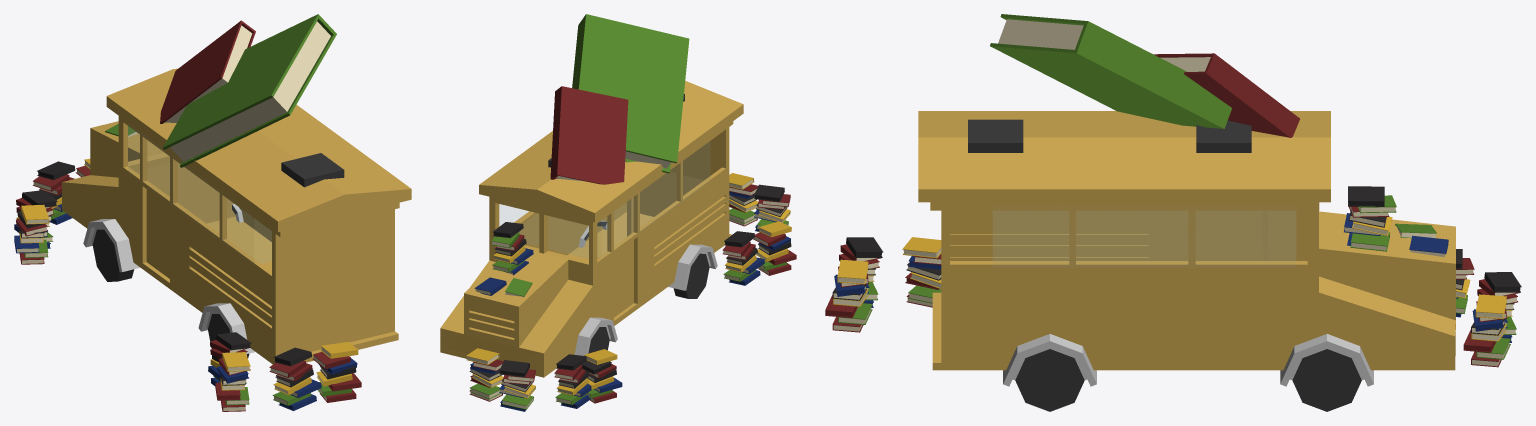
Rendered from SM_Bibliobus.fbx.
3 views of the same model, side by side, from view 1: azimuth 30°, elevation 25°; view 2: azimuth 150°, elevation 25°; view 3: azimuth 270°, elevation 25° (orthographic). The views are drawn at different scales.
Parts seen in each view (by area): view 1: Autobus, Techo, LibroRojo_5_2, Ventanas, LibroRojo_6, Ruedas_Delanteras, Chimenea02, Ruedas_Traseras, LibroAmarillo_1_8, LibroAmarillo_1_9, LibroAmarillo_1_3, LibroAmarillo_1 (+6 smaller); view 2: Autobus, LibroRojo_5_2, Techo, LibroRojo_6, Ventanas, Ruedas_Traseras, Ruedas_Delanteras, LibroAmarillo_1, LibroAmarillo_1_4, LibroAmarillo_1_2, LibroRojo_3_2, LibroRojo_4_2 (+6 smaller); view 3: Autobus, Techo, Ventanas, LibroRojo_5_2, Ruedas_Delanteras, Ruedas_Traseras, LibroRojo_6, Chimenea02, Chimenea01, LibroAmarillo_1_5, LibroAmarillo_1_2, LibroAmarillo_1_3 (+4 smaller).
Part boxes in pixels (x1,y1,x2,y2): Autobus: [62, 119, 398, 364]; Techo: [106, 68, 411, 237]; LibroRojo_5_2: [162, 14, 336, 167]; Ventanas: [128, 126, 271, 263]; LibroRojo_6: [160, 20, 255, 123]; Ruedas_Delanteras: [83, 204, 243, 281]; Chimenea02: [281, 153, 344, 187]; Ruedas_Traseras: [198, 303, 255, 358]; LibroAmarillo_1_8: [222, 352, 250, 371]; LibroAmarillo_1_9: [21, 204, 49, 224]; LibroAmarillo_1_3: [320, 341, 358, 358]; LibroAmarillo_1: [37, 161, 75, 179]; Autobus: [440, 127, 731, 377]; LibroRojo_5_2: [572, 14, 689, 173]; Techo: [479, 81, 743, 226]; LibroRojo_6: [550, 86, 628, 184]; Ventanas: [500, 142, 709, 258]; Ruedas_Traseras: [578, 220, 717, 298]; Ruedas_Delanteras: [574, 317, 617, 355]; LibroAmarillo_1: [499, 360, 529, 377]; LibroAmarillo_1_4: [754, 184, 784, 201]; LibroAmarillo_1_2: [466, 348, 499, 364]; LibroRojo_3_2: [474, 277, 506, 295]; LibroRojo_4_2: [505, 278, 532, 297]; Autobus: [932, 210, 1455, 370]; Techo: [918, 111, 1330, 210]; Ventanas: [993, 211, 1295, 260]; LibroRojo_5_2: [990, 14, 1231, 128]; Ruedas_Delanteras: [1280, 334, 1373, 411]; Ruedas_Traseras: [1003, 334, 1096, 411]; LibroRojo_6: [1154, 53, 1299, 137]; Chimenea02: [968, 119, 1023, 152]; Chimenea01: [1196, 120, 1251, 152]; LibroAmarillo_1_5: [1348, 186, 1384, 206]; LibroAmarillo_1_2: [1475, 294, 1506, 319]; LibroAmarillo_1_3: [837, 259, 868, 284].
Bounding box in the file's own units: 335 × 501 × 839.
